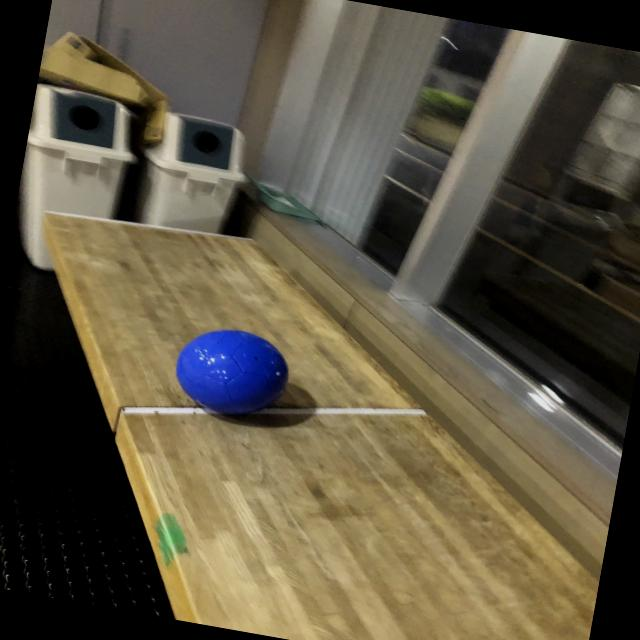blue_ball: (172, 320, 298, 422)
